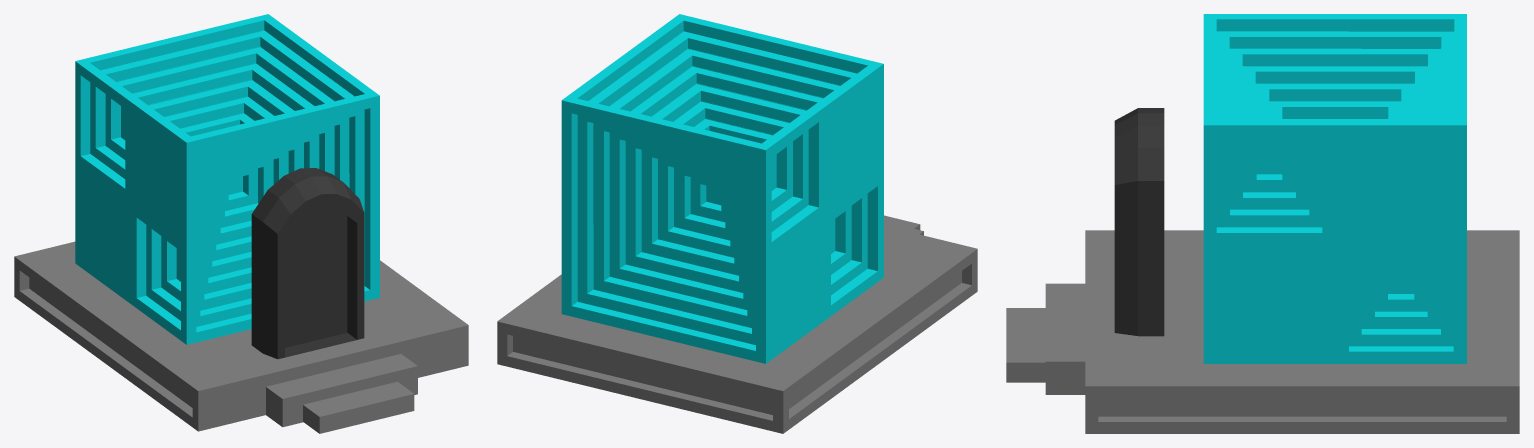
File: ShrineModel04.1.fbx
The picture shows the model from 3 angles, left to right: view 1: azimuth 30°, elevation 25°; view 2: azimuth 150°, elevation 25°; view 3: azimuth 270°, elevation 25°; orthographic projection. The views are drawn at different scales.
Parts seen in each view (by area): view 1: Cube, Cube.004, Cube.003, Cube.001, Cube.002; view 2: Cube, Cube.004; view 3: Cube, Cube.004, Cube.003, Cube.001, Cube.002.
Boxes of the visible parts, <box> form: Cube: <box>75,14,379,344</box>; Cube.004: <box>14,241,468,431</box>; Cube.003: <box>251,168,364,359</box>; Cube.001: <box>266,354,417,427</box>; Cube.002: <box>303,381,414,433</box>; Cube: <box>561,14,883,363</box>; Cube.004: <box>497,226,977,433</box>; Cube: <box>1203,14,1466,363</box>; Cube.004: <box>1085,230,1519,433</box>; Cube.003: <box>1114,108,1164,336</box>; Cube.001: <box>1045,283,1085,394</box>; Cube.002: <box>1006,308,1045,382</box>.
Size of the model in its own units: 280 by 240 by 390.
